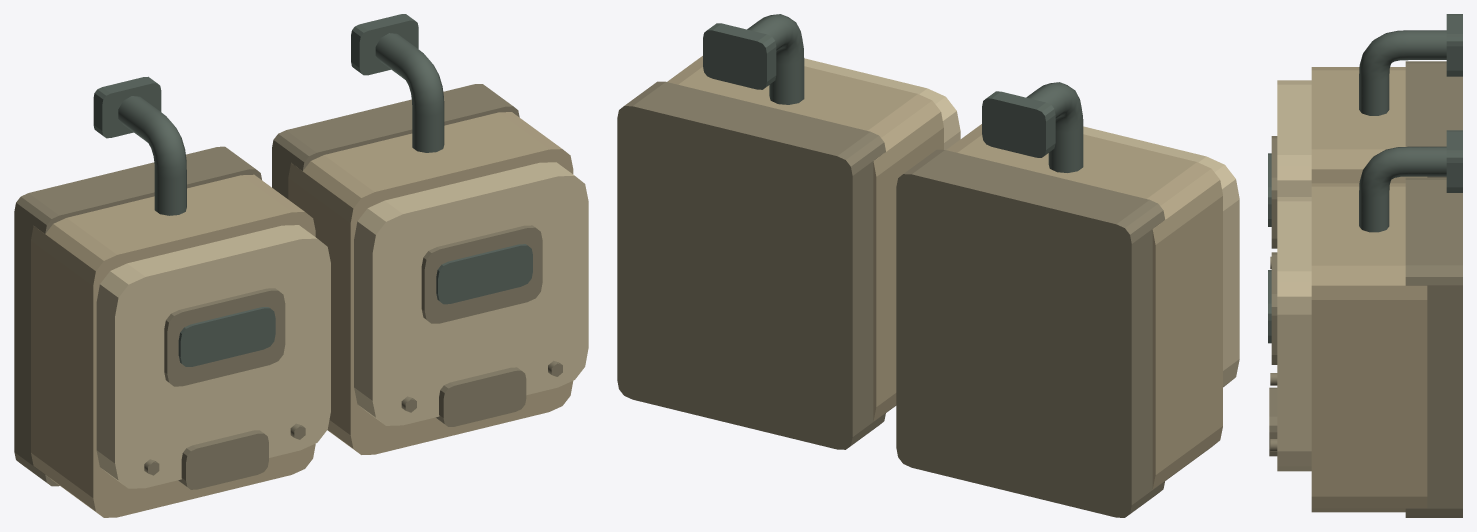
Rendered from service-box-v1.glb.
The picture shows the model from 3 angles, left to right: view 1: azimuth 30°, elevation 25°; view 2: azimuth 150°, elevation 25°; view 3: azimuth 270°, elevation 25°; orthographic projection. The views are drawn at different scales.
Parts seen in each view (by area): view 1: 낮은 벽붙이 계량함 2연; view 2: 낮은 벽붙이 계량함 2연; view 3: 낮은 벽붙이 계량함 2연.
Boxes of the visible parts, <box> form: 낮은 벽붙이 계량함 2연: <box>14,14,588,517</box>; 낮은 벽붙이 계량함 2연: <box>617,14,1239,517</box>; 낮은 벽붙이 계량함 2연: <box>1268,14,1462,517</box>.
Bounding box in the file's own units: 0.44 × 0.314 × 0.167.
